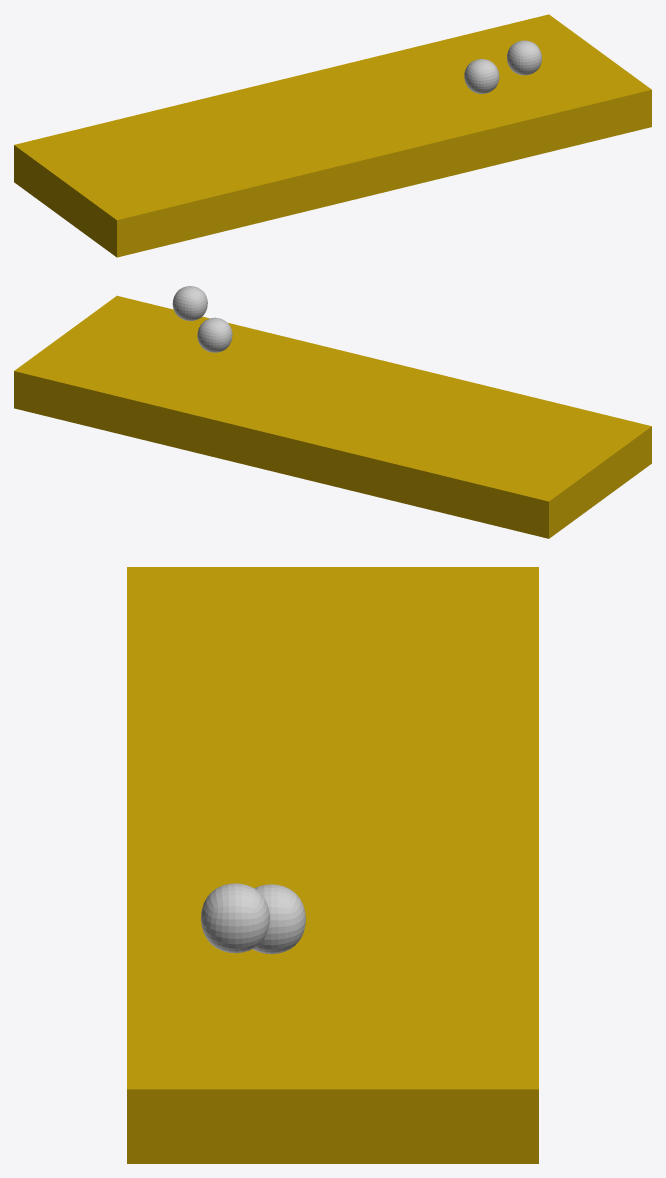
The picture shows the model from 3 angles, top to bottom: view 1: azimuth 30°, elevation 25°; view 2: azimuth 150°, elevation 25°; view 3: azimuth 270°, elevation 25°; orthographic projection. The views are drawn at different scales.
Visible parts, largest first — view 1: Cube, Sphere_Reflective, Sphere_Transparent; view 2: Cube, Sphere_Reflective, Sphere_Transparent; view 3: Cube, Sphere_Transparent, Sphere_Reflective.
Boxes of the visible parts, box(x1,y1,x2,y2) form: Cube: box(14, 14, 651, 257); Sphere_Reflective: box(464, 59, 499, 93); Sphere_Transparent: box(507, 40, 541, 75); Cube: box(14, 295, 651, 538); Sphere_Reflective: box(197, 317, 232, 352); Sphere_Transparent: box(172, 286, 207, 320); Cube: box(127, 567, 538, 1163); Sphere_Transparent: box(201, 883, 269, 953); Sphere_Reflective: box(252, 884, 305, 954).
Size of the model in its own units: 30 by 4.79 by 10.
